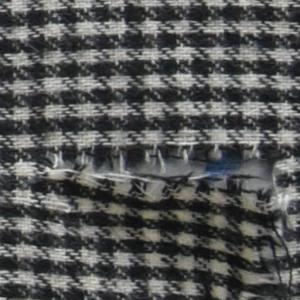Damage: (15, 133, 300, 300)
